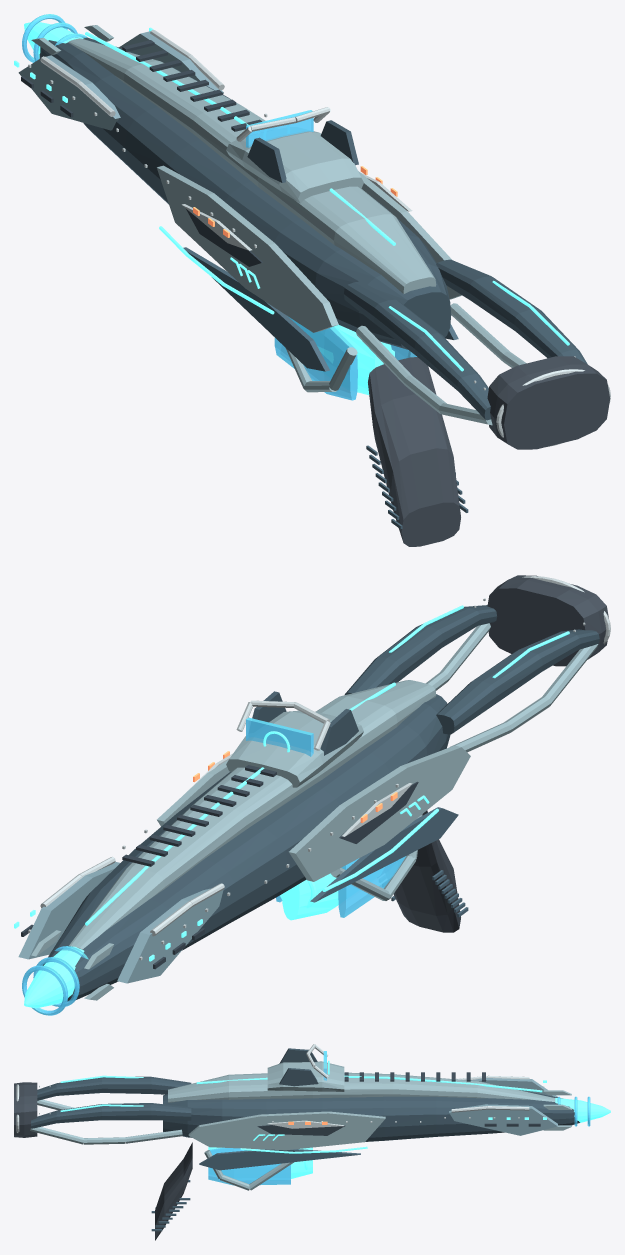
The model's file is aether9-specter.glb.
3 views of the same model, one above another, from view 1: azimuth 30°, elevation 25°; view 2: azimuth 150°, elevation 25°; view 3: azimuth 270°, elevation 25° (orthographic). The views are drawn at different scales.
Parts seen in each view (by area): view 1: 01 / Monocoque silhouette - original digital game artwork, 02 / Continuous machined dorsal blade, 13 / Ergonomic graphite handgrip, 12 / Polymer rear pad, L / Broad titanium cheek plate, L / One-piece rear alloy arch, 20 / Integrated optic crown, R / One-piece rear alloy arch, L / Floating aero fin and bridges, L / Lower textured support, 16 / Double floating glass shells, L / Diagonal open strut (+14 smaller); view 2: 01 / Monocoque silhouette - original digital game artwork, 02 / Continuous machined dorsal blade, L / Broad titanium cheek plate, 12 / Polymer rear pad, L / One-piece rear alloy arch, R / One-piece rear alloy arch, 20 / Integrated optic crown, 13 / Ergonomic graphite handgrip, L / Floating aero fin and bridges, L / Lower textured support, R / Floating aero fin and bridges, L / Diagonal open strut (+18 smaller); view 3: 01 / Monocoque silhouette - original digital game artwork, 02 / Continuous machined dorsal blade, R / Broad titanium cheek plate, R / One-piece rear alloy arch, L / One-piece rear alloy arch, R / Floating aero fin and bridges, R / Lower textured support, 20 / Integrated optic crown, 13 / Ergonomic graphite handgrip, 16 / Double floating glass shells, 12 / Polymer rear pad, R / Diagonal open strut (+14 smaller).
Part boxes in pixels (bbox=[...]): 01 / Monocoque silhouette - original digital game artwork: bbox=[39, 37, 451, 349]; 02 / Continuous machined dorsal blade: bbox=[68, 38, 436, 293]; 13 / Ergonomic graphite handgrip: bbox=[368, 357, 460, 546]; 12 / Polymer rear pad: bbox=[487, 356, 610, 449]; L / Broad titanium cheek plate: bbox=[156, 165, 338, 332]; L / One-piece rear alloy arch: bbox=[344, 281, 490, 420]; 20 / Integrated optic crown: bbox=[226, 131, 363, 203]; R / One-piece rear alloy arch: bbox=[436, 259, 587, 364]; L / Floating aero fin and bridges: bbox=[18, 55, 120, 130]; L / Lower textured support: bbox=[183, 247, 329, 371]; 16 / Double floating glass shells: bbox=[274, 316, 416, 400]; L / Diagonal open strut: bbox=[356, 325, 492, 425]; 01 / Monocoque silhouette - original digital game artwork: bbox=[43, 694, 450, 1001]; 02 / Continuous machined dorsal blade: bbox=[68, 680, 436, 949]; L / Broad titanium cheek plate: bbox=[289, 745, 470, 881]; 12 / Polymer rear pad: bbox=[487, 575, 608, 666]; L / One-piece rear alloy arch: bbox=[436, 629, 599, 734]; R / One-piece rear alloy arch: bbox=[344, 605, 496, 694]; 20 / Integrated optic crown: bbox=[226, 710, 363, 787]; 13 / Ergonomic graphite handgrip: bbox=[393, 810, 460, 932]; L / Floating aero fin and bridges: bbox=[117, 888, 223, 983]; L / Lower textured support: bbox=[310, 807, 458, 902]; R / Floating aero fin and bridges: bbox=[18, 861, 119, 959]; L / Diagonal open strut: bbox=[450, 644, 598, 752]; 01 / Monocoque silhouette - original digital game artwork: bbox=[163, 1090, 579, 1141]; 02 / Continuous machined dorsal blade: bbox=[168, 1072, 555, 1102]; R / Broad titanium cheek plate: bbox=[188, 1111, 385, 1150]; R / One-piece rear alloy arch: bbox=[31, 1103, 191, 1128]; L / One-piece rear alloy arch: bbox=[37, 1076, 191, 1100]; R / Floating aero fin and bridges: bbox=[449, 1104, 557, 1135]; R / Lower textured support: bbox=[199, 1149, 360, 1170]; 20 / Integrated optic crown: bbox=[267, 1061, 344, 1091]; 13 / Ergonomic graphite handgrip: bbox=[155, 1142, 192, 1240]; 16 / Double floating glass shells: bbox=[208, 1147, 290, 1185]; 12 / Polymer rear pad: bbox=[14, 1082, 37, 1137]; R / Diagonal open strut: bbox=[30, 1127, 182, 1144].
Size of the model in its own units: 0.8609 by 1.56 by 4.61.
